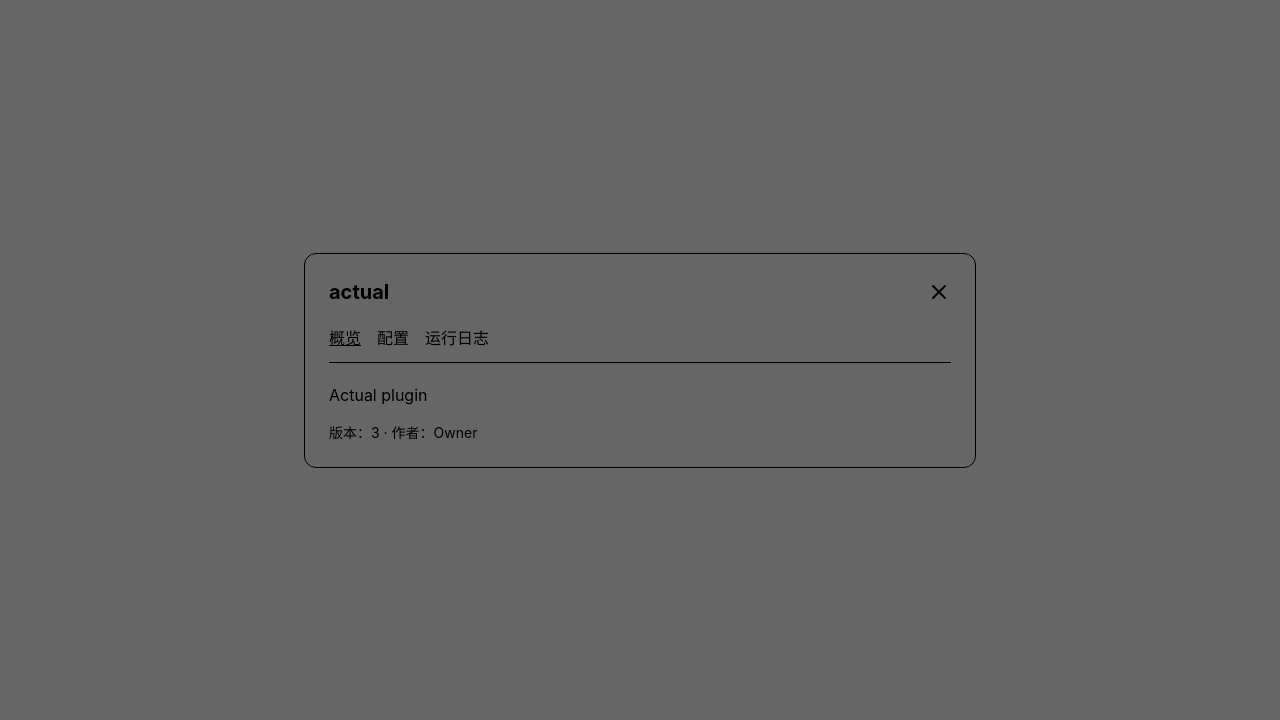
displays the server log string rather than fabricated release notes
Click the button "运行日志" at point(457, 338), box [425,326,489,350]
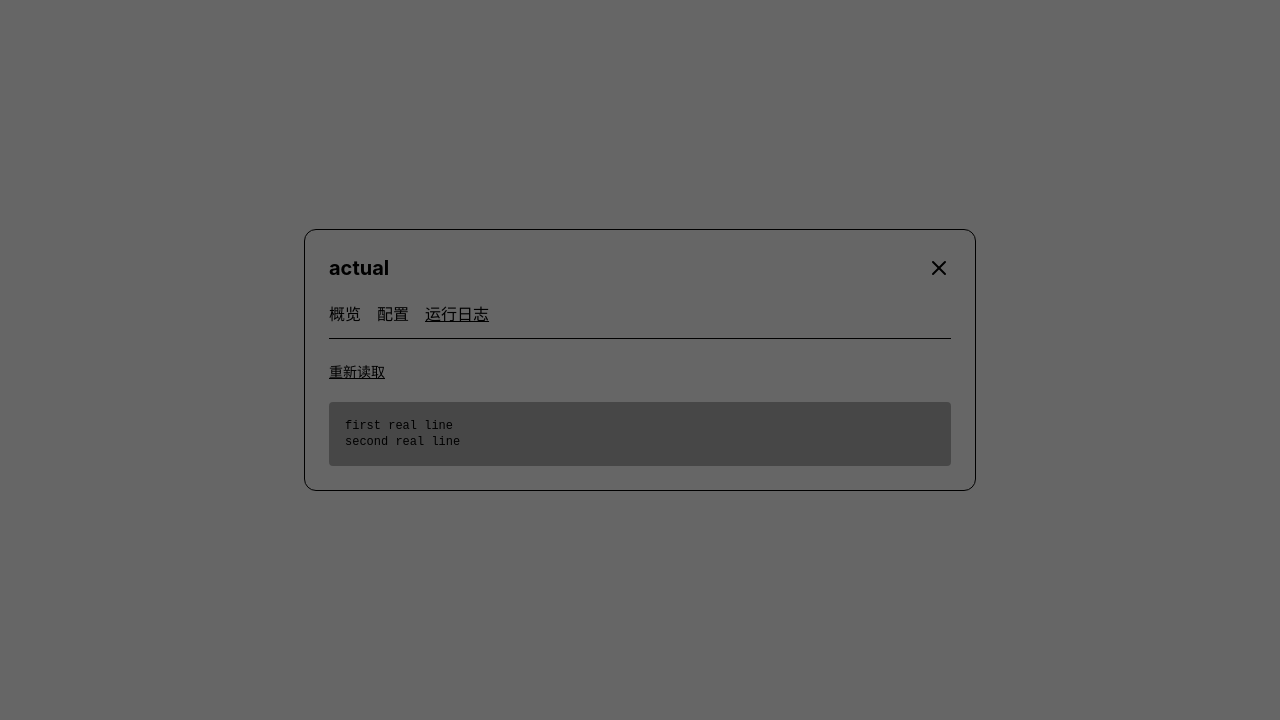
Check: the text "first real line second real line" is shown, box [329,402,951,466]
